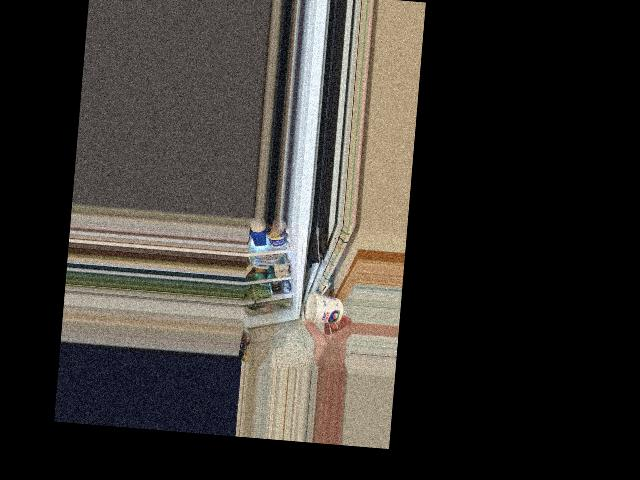cotage: (307, 295, 342, 328)
